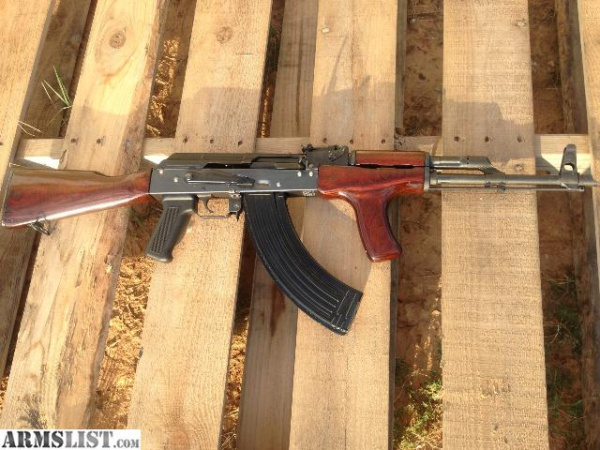ak47: (2, 144, 599, 331)
